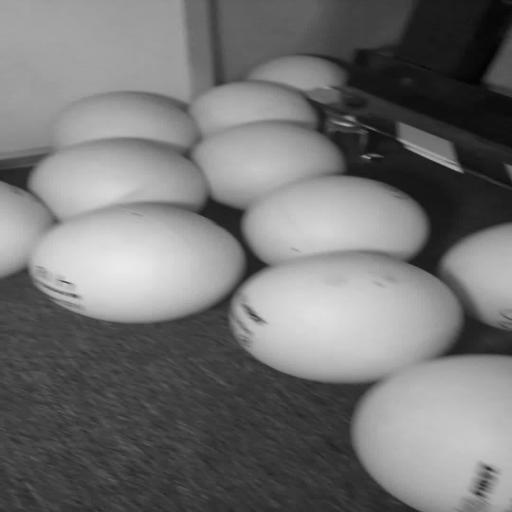fuel: (226, 251, 461, 385), (32, 203, 248, 326), (352, 354, 512, 512), (243, 175, 433, 276), (27, 144, 205, 230), (202, 125, 342, 207), (54, 93, 198, 167), (190, 84, 319, 148), (442, 224, 512, 330), (243, 55, 347, 106), (0, 180, 52, 278)
